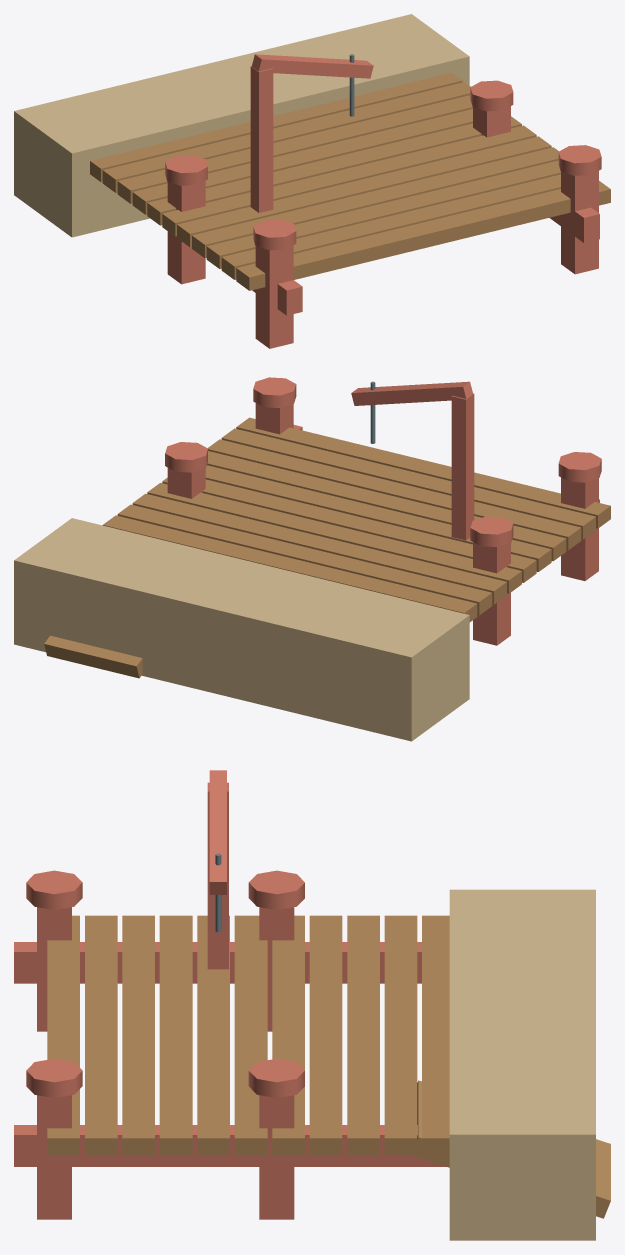
File: RiverDock.glb
The picture shows the model from 3 angles, top to bottom: view 1: azimuth 30°, elevation 25°; view 2: azimuth 150°, elevation 25°; view 3: azimuth 270°, elevation 25°; orthographic projection. The views are drawn at different scales.
Visible parts, largest first — view 1: hand-pump-static-river-dock-planks, hand-pump-static-river-dock-shore-stone, hand-pump-static-river-dock-weathered-timber; view 2: hand-pump-static-river-dock-shore-stone, hand-pump-static-river-dock-planks, hand-pump-static-river-dock-weathered-timber; view 3: hand-pump-static-river-dock-planks, hand-pump-static-river-dock-shore-stone, hand-pump-static-river-dock-weathered-timber.
Part boxes in pixels (box(x1,y1,x2,y2)): hand-pump-static-river-dock-planks: box(90, 72, 610, 290); hand-pump-static-river-dock-shore-stone: box(14, 14, 469, 237); hand-pump-static-river-dock-weathered-timber: box(165, 54, 601, 348); hand-pump-static-river-dock-shore-stone: box(14, 518, 469, 741); hand-pump-static-river-dock-planks: box(44, 417, 610, 678); hand-pump-static-river-dock-weathered-timber: box(165, 377, 601, 645); hand-pump-static-river-dock-planks: box(47, 915, 610, 1218); hand-pump-static-river-dock-shore-stone: box(449, 889, 595, 1240); hand-pump-static-river-dock-weathered-timber: box(14, 770, 446, 1219).
Size of the model in its own units: 4.95 by 2.68 by 5.1.
